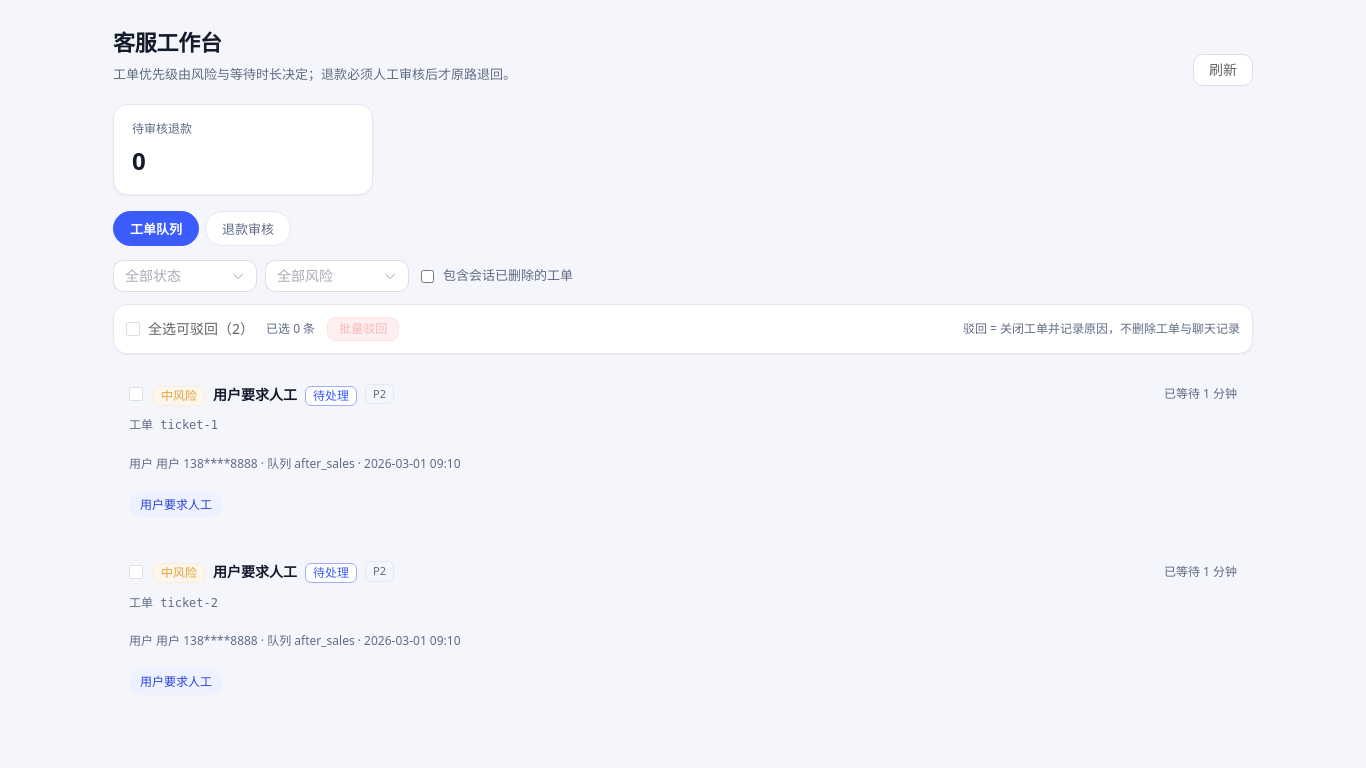
Test: SupportTicketsView（工单队列） › 部分失败时如实反馈并列出失败工单
The image size is (1366, 768).
Click the checkbox named "选择此工单用于批量驳回": (136,394) [129,387,143,401]
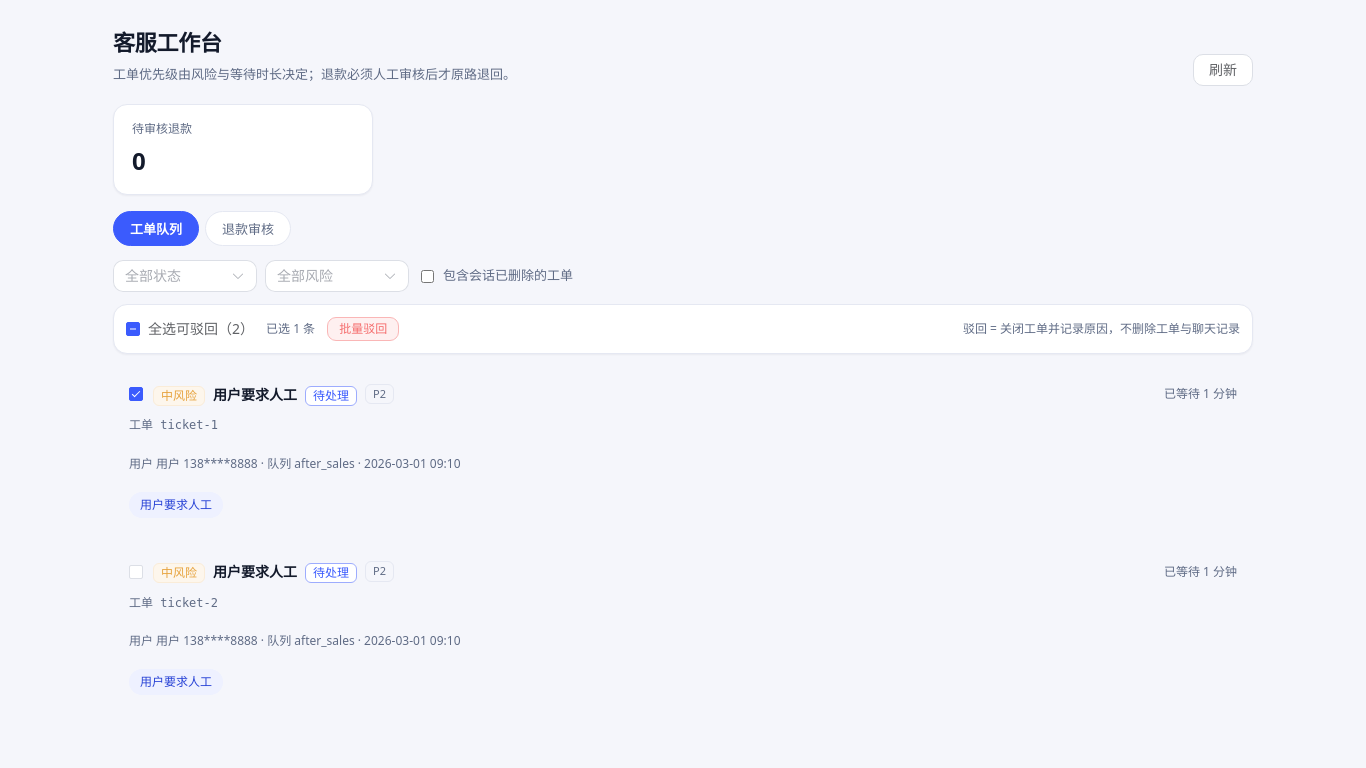
Click the checkbox named "选择此工单用于批量驳回": (136,572) [129,564,143,578]
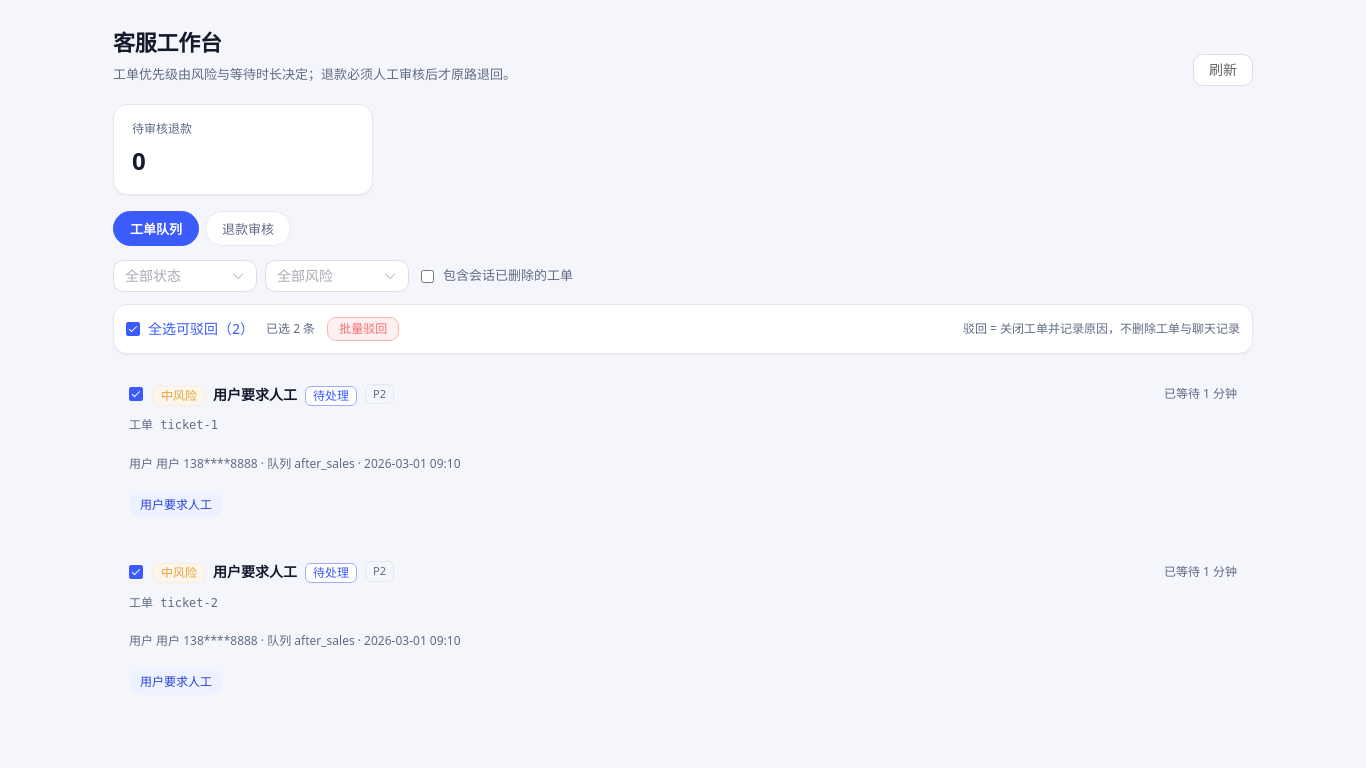
Click the button "批量驳回": (363,329) [327,317,399,341]
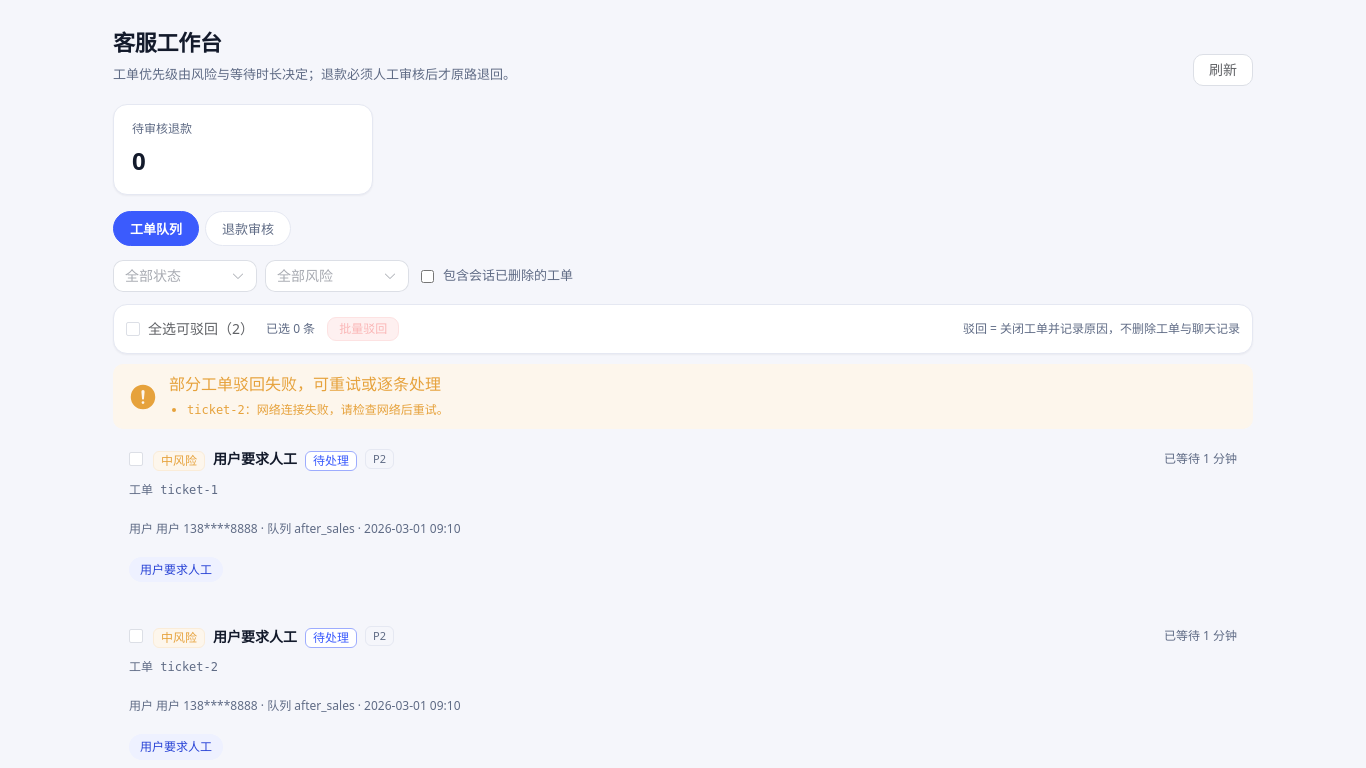
Check: the text "ticket-2" is shown, box [187,403,245,417]
Check: the text "部分工单驳回失败" is shown, box [169,373,441,395]
Check: the text "网络连接失败" is shown, box [245,401,449,418]
